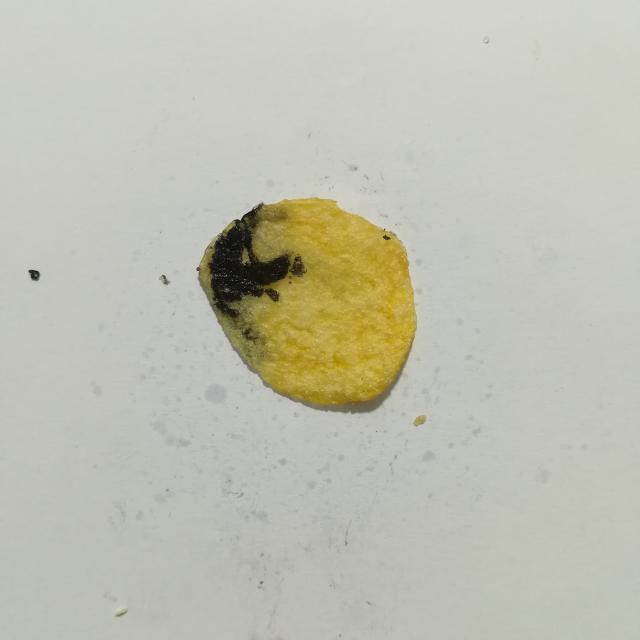chip: (198, 198, 417, 405)
damaged: (208, 205, 291, 318), (290, 255, 306, 277)
semi-damaged: (228, 308, 267, 365)
